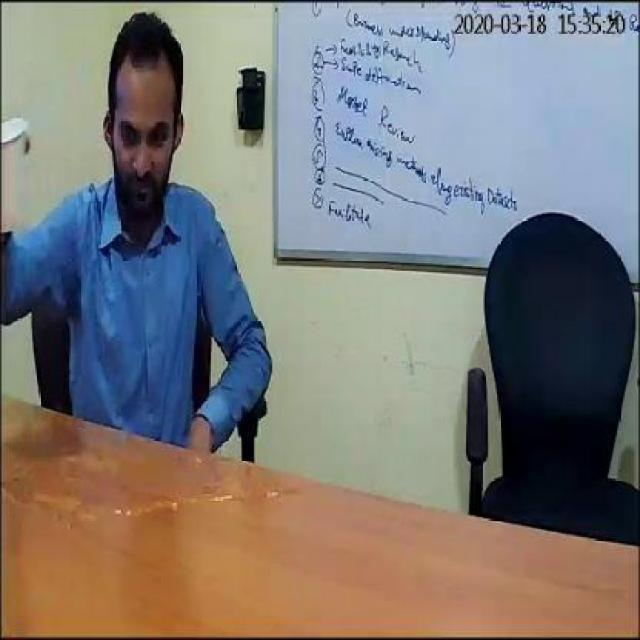spill: (8, 436, 310, 524)
